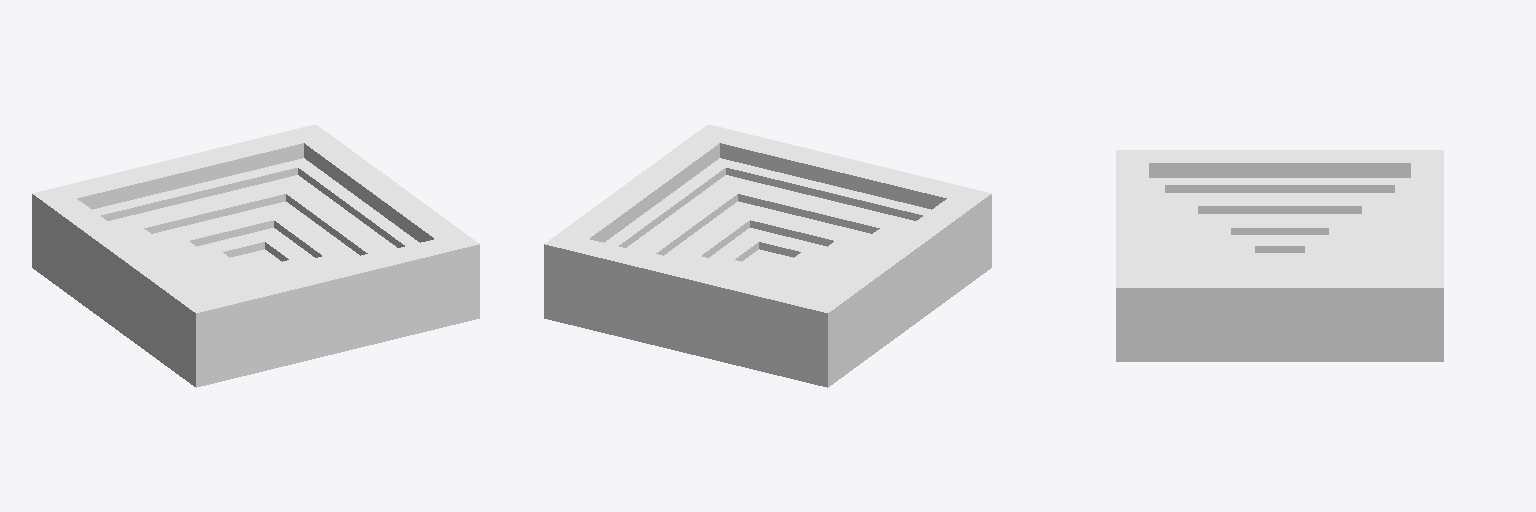
File: cubito_lava_lento.obj
The picture shows the model from 3 angles: view 1: azimuth 30°, elevation 25°; view 2: azimuth 150°, elevation 25°; view 3: azimuth 270°, elevation 25°; orthographic projection.
Visible parts, largest first — view 1: object 1; view 2: object 1; view 3: object 1.
Boxes of the visible parts, x1,y1,x2,y2 form: object 1: [32, 124, 479, 387]; object 1: [544, 124, 991, 387]; object 1: [1116, 150, 1443, 361].
Bounding box in the file's own units: 4 × 1 × 4.